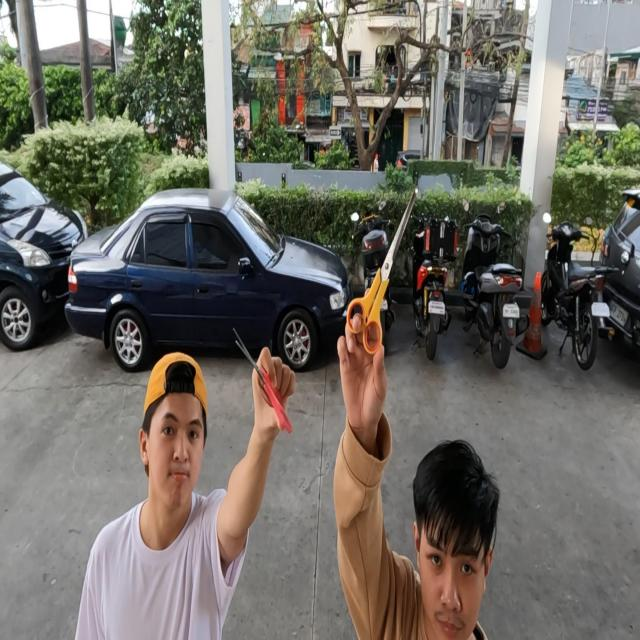scissor: (347, 192, 416, 355), (233, 326, 291, 436)
